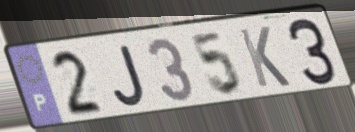2: (51, 47, 108, 120)
3: (285, 15, 338, 88), (145, 36, 195, 106)
5: (187, 28, 243, 98)
J: (110, 43, 148, 110)
K: (236, 25, 294, 91)
